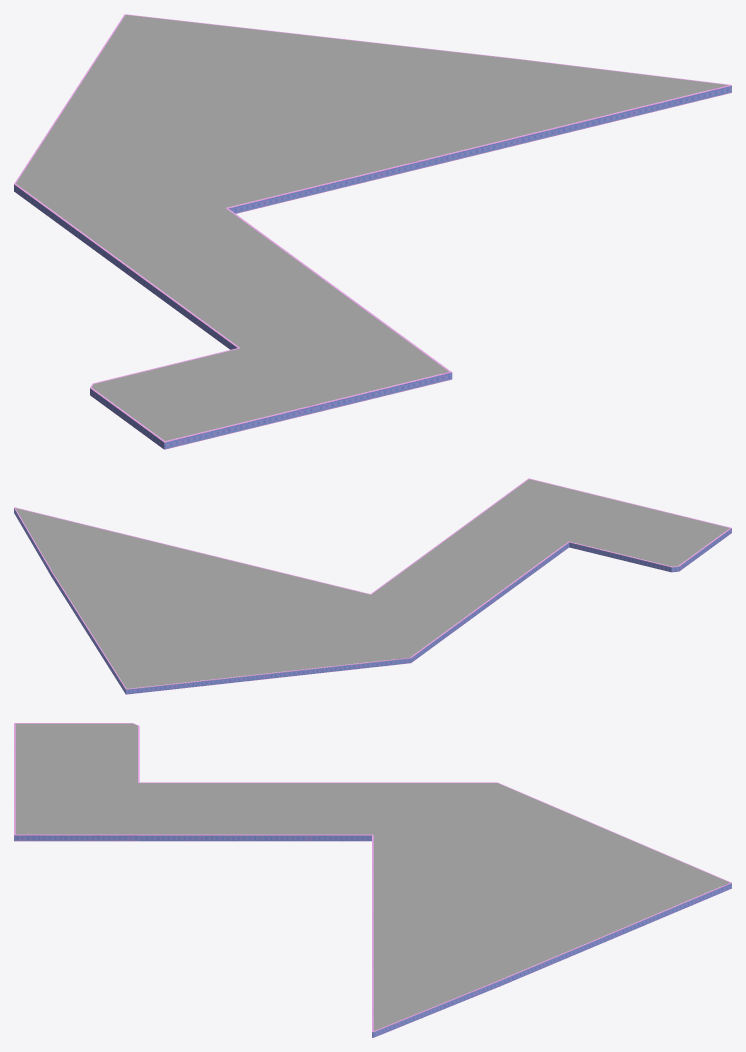
File: BarracksMinor_01_SM_Low.fbx
3 views of the same model, one above another, from view 1: azimuth 30°, elevation 25°; view 2: azimuth 150°, elevation 25°; view 3: azimuth 270°, elevation 25° (orthographic). The views are drawn at different scales.
Parts seen in each view (by area): view 1: GratedFloor, FloorSide; view 2: GratedFloor, FloorSide; view 3: GratedFloor, FloorSide.
Part boxes in pixels (x1,y1,x2,y2): GratedFloor: [16, 15, 728, 441]; FloorSide: [14, 14, 731, 449]; GratedFloor: [15, 479, 729, 688]; FloorSide: [14, 478, 731, 694]; GratedFloor: [15, 723, 729, 1030]; FloorSide: [14, 723, 731, 1037].
Size of the model in its own units: 1980 by 17.66 by 1945.
2 materials, 1 textured.
